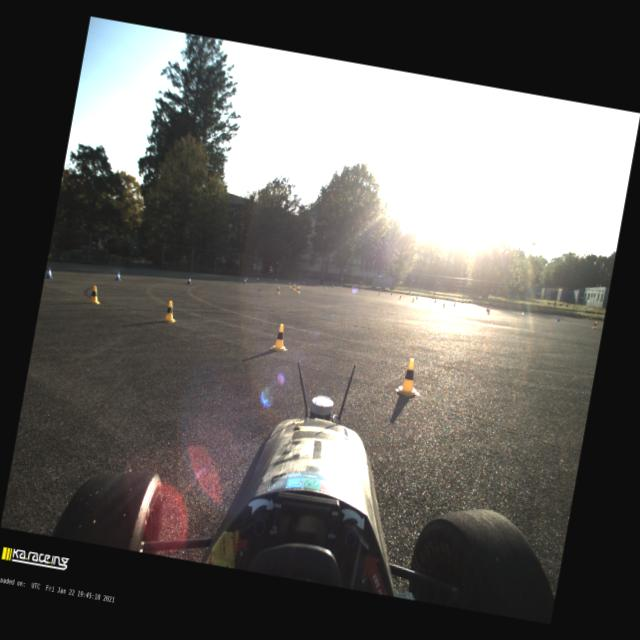blue_cone: (44, 265, 54, 280), (114, 269, 122, 282), (185, 274, 193, 286), (242, 277, 247, 285), (556, 314, 561, 322), (254, 276, 260, 282), (244, 275, 248, 283), (358, 286, 362, 292), (452, 300, 456, 306), (415, 294, 418, 300), (485, 305, 488, 311), (331, 283, 334, 287), (390, 290, 392, 296), (275, 277, 277, 282), (434, 297, 436, 302), (302, 280, 304, 284)
yellow_cone: (394, 356, 426, 400), (269, 322, 292, 354), (162, 298, 180, 324), (86, 282, 103, 306), (274, 284, 282, 296), (295, 284, 301, 294), (592, 320, 598, 330), (486, 306, 491, 314), (292, 283, 296, 291), (287, 281, 291, 288), (411, 296, 415, 302), (397, 294, 401, 300), (350, 286, 353, 291), (442, 302, 444, 308), (378, 290, 380, 296), (324, 284, 327, 288)
